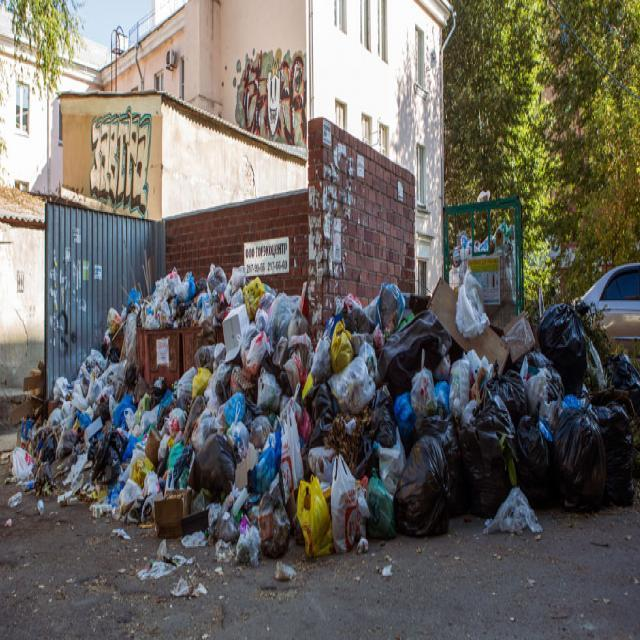garbage: (42, 257, 640, 584), (0, 368, 45, 532), (449, 213, 522, 257)
